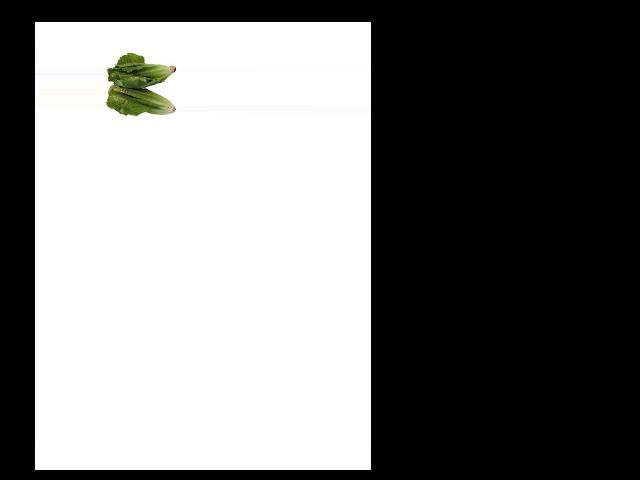lettuce: (106, 59, 176, 119)
